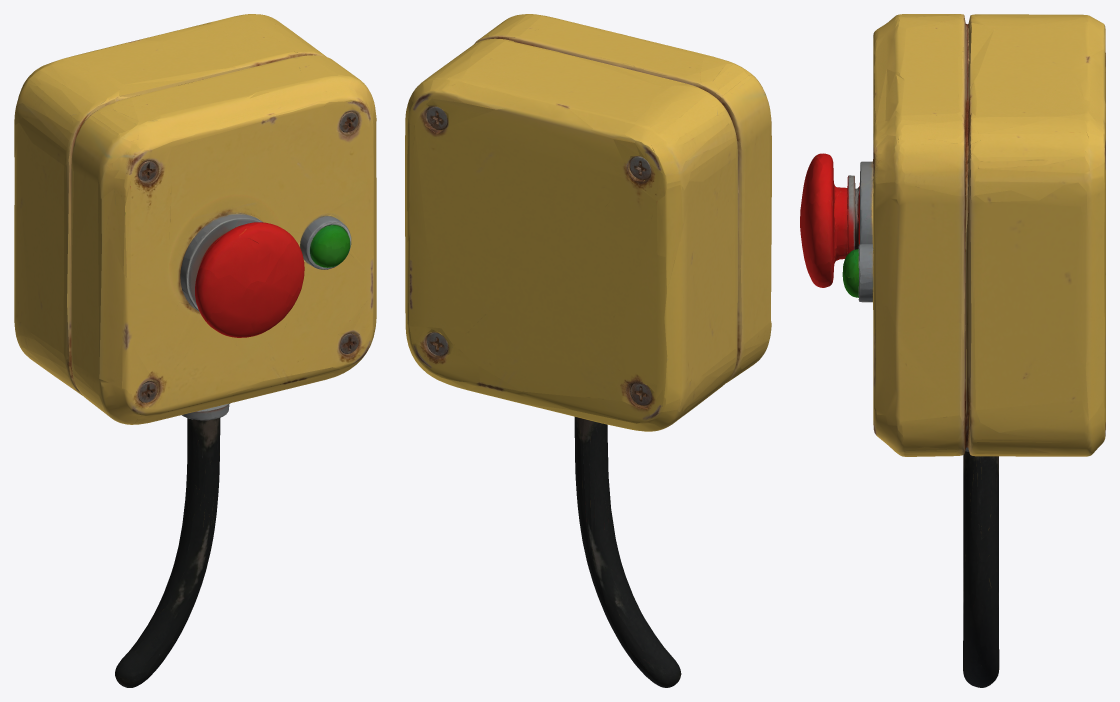
The model's file is quadro_pulsante.glb.
The picture shows the model from 3 angles, left to right: view 1: azimuth 30°, elevation 25°; view 2: azimuth 150°, elevation 25°; view 3: azimuth 270°, elevation 25°; orthographic projection. The views are drawn at different scales.
Visible parts, largest first — view 1: Mesh_0; view 2: Mesh_0; view 3: Mesh_0.
Boxes of the visible parts, bbox=[...] form: Mesh_0: bbox=[14, 14, 376, 687]; Mesh_0: bbox=[405, 14, 771, 687]; Mesh_0: bbox=[800, 14, 1105, 687].
Bounding box in the file's own units: 0.9226 × 1.9 × 0.804.
1 material, 1 textured.
